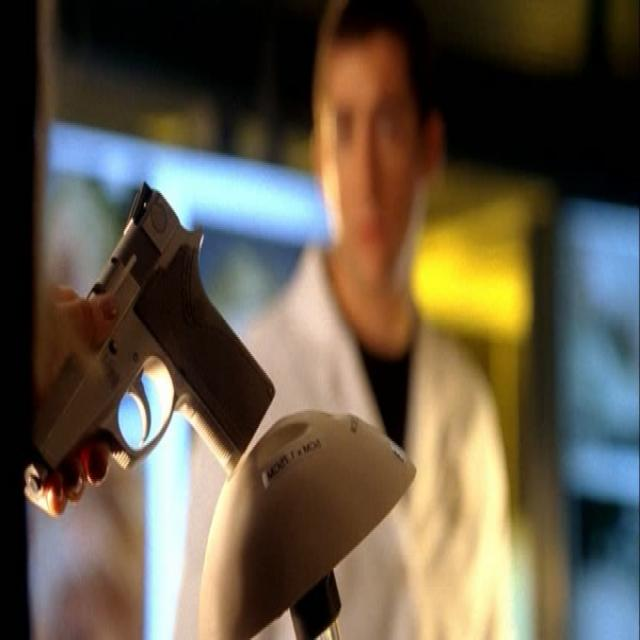weapons: (24, 152, 278, 540)
